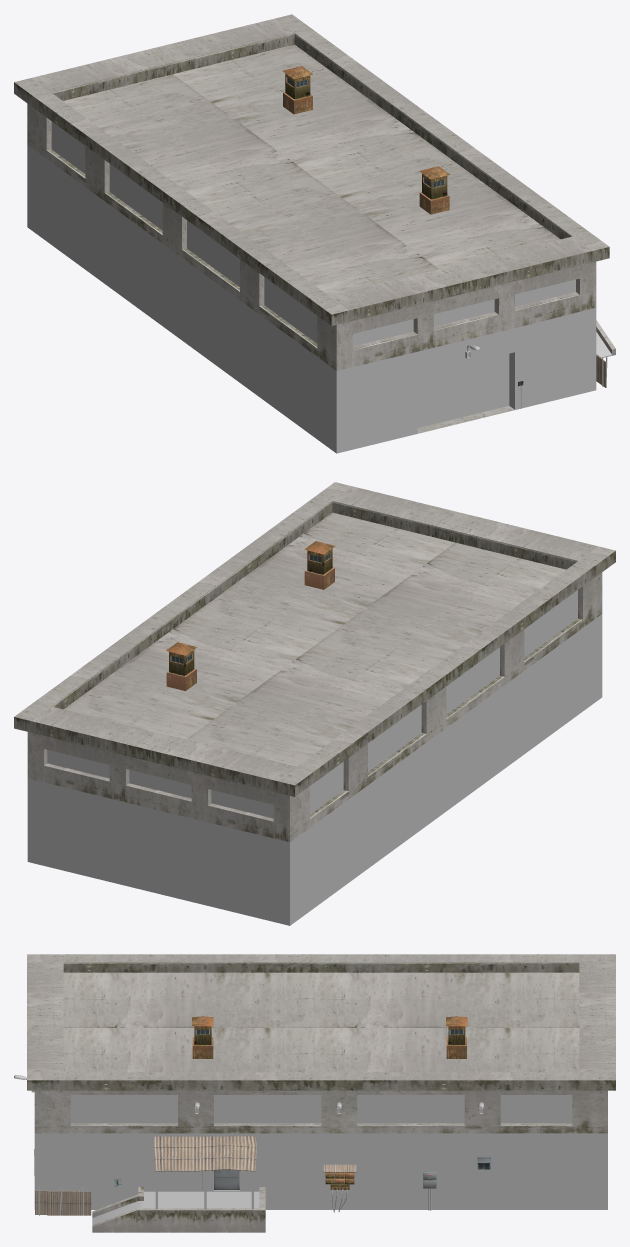
File: ind4_hall5_LOD0.fbx
The picture shows the model from 3 angles, top to bottom: view 1: azimuth 30°, elevation 25°; view 2: azimuth 150°, elevation 25°; view 3: azimuth 270°, elevation 25°; orthographic projection. The views are drawn at different scales.
Visible parts, largest first — view 1: Mesh Object; view 2: Mesh Object; view 3: Mesh Object.
Part boxes in pixels (bbox=[...]): Mesh Object: bbox=[14, 14, 615, 453]; Mesh Object: bbox=[14, 482, 615, 925]; Mesh Object: bbox=[14, 954, 615, 1232].
Size of the model in its own units: 20.64 by 10.53 by 35.57.
